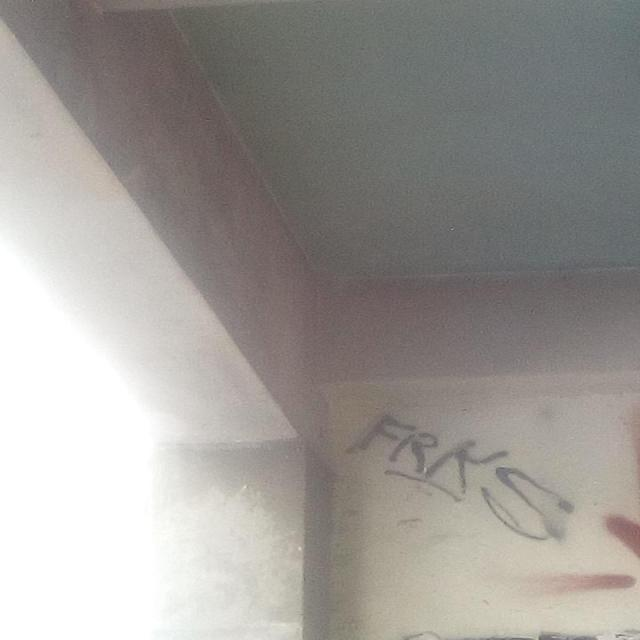nonspitting: (354, 413, 574, 540)
